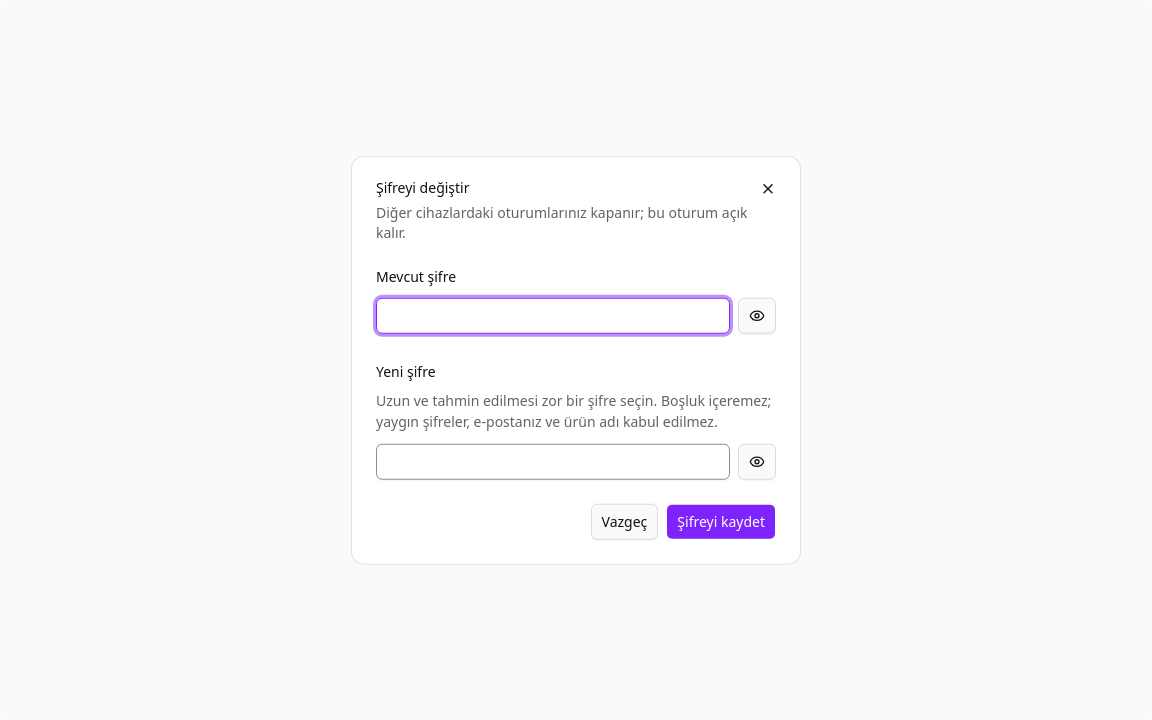
Test case: ChangePasswordDialog › names the broken rule under the new password
The width and height of the screenshot is (1152, 720).
In the password field labelled "Mevcut şifre": [553, 316] box [376,298,730,334], type "doğru-at-pil-zımba"
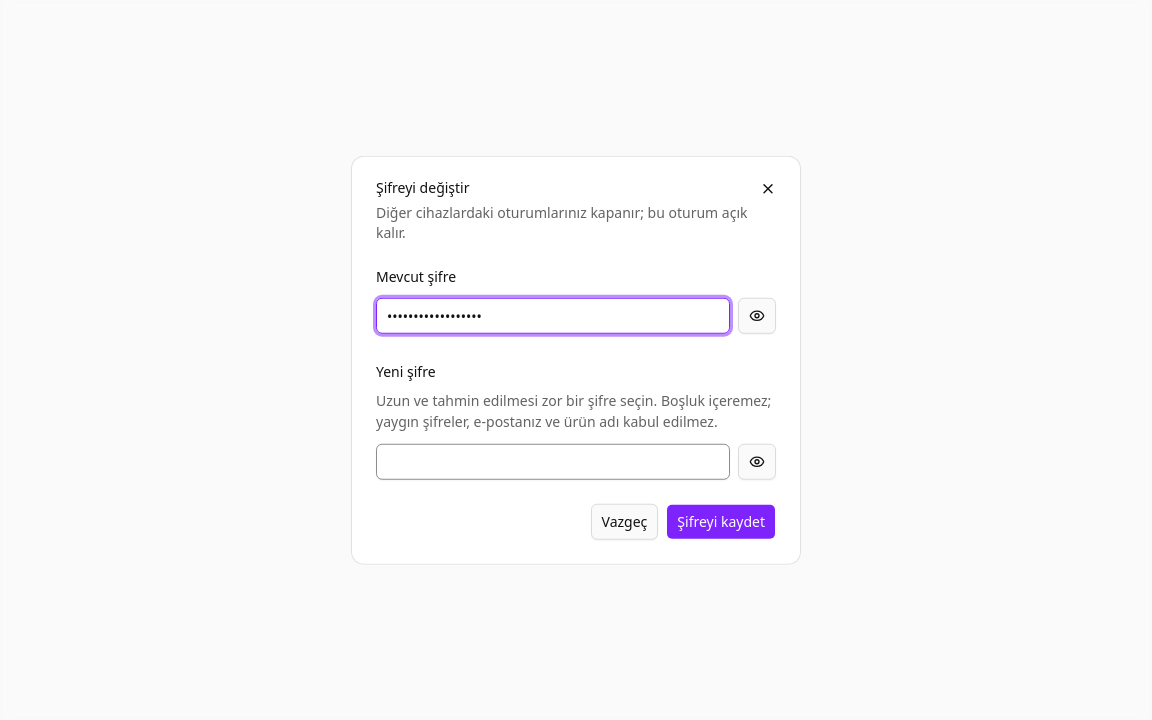
In the password field labelled "Yeni şifre": [553, 461] box [376,443,730,479], type "boşluklu şifre"
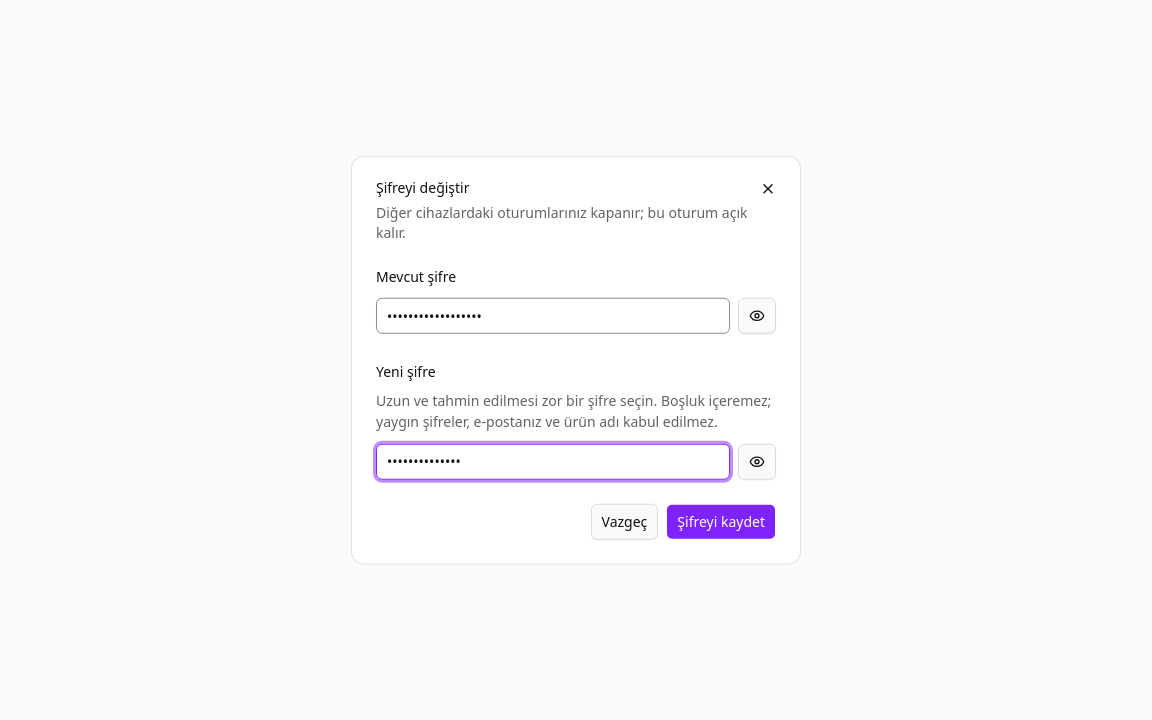
Click the button "Şifreyi kaydet": [721, 521] box [666,503,776,539]
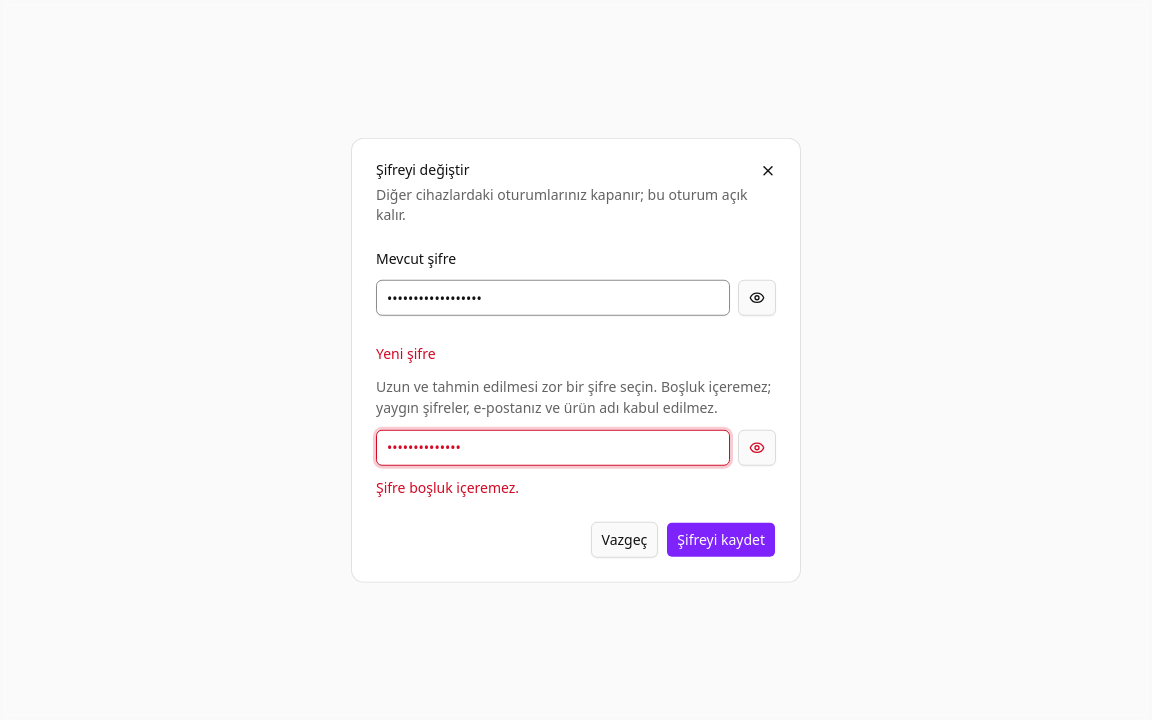
Expected: the text "Şifre boşluk içeremez." is shown, [376,477,519,496]
